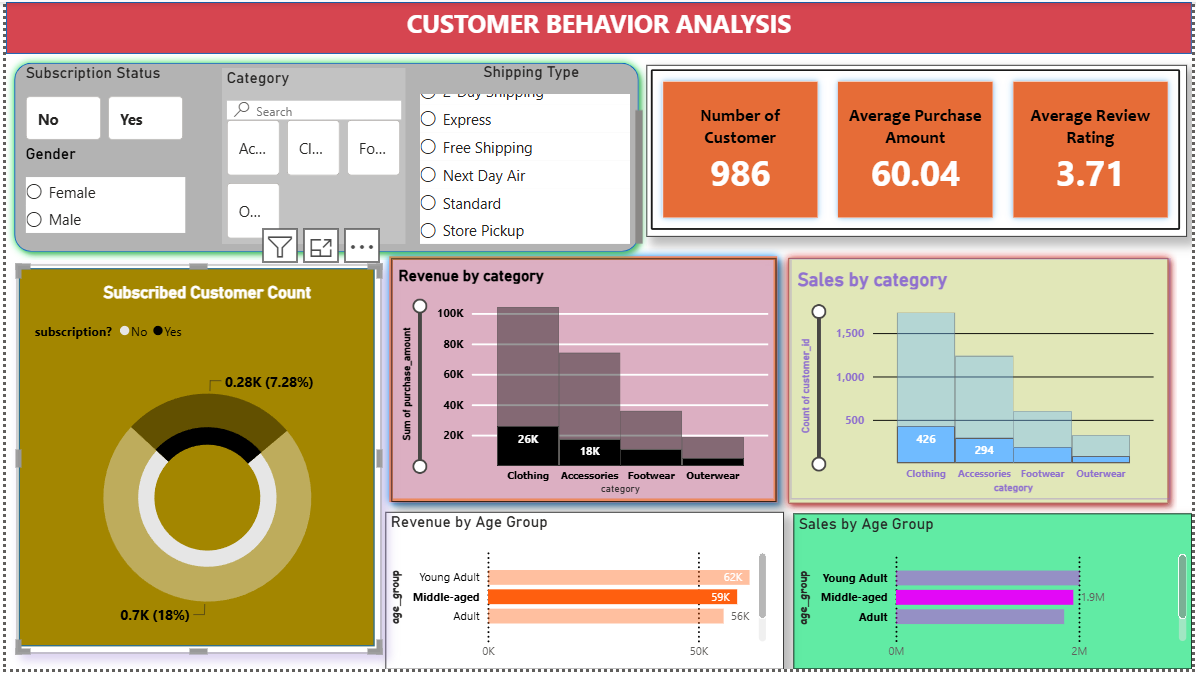

The page's visual inventory and layout, read from the dashboard file:
{"tool":"powerbi","page":{"name":"Page 1","canvas":[1280,720],"ordinal":0},"visuals":[{"type":"cardVisual","fields":{"Data":["public customer.Number of Customer","public customer.Average Purchase Amount","public customer.Average Review Rating"]},"box":[692,68,583.3,185],"z":0},{"type":"textbox","box":[0,0,1280,80],"z":1000},{"type":"shape","box":[0,0,1280,56],"z":2000},{"type":"textbox","box":[0,0,1280,56],"z":3000},{"type":"shape","box":[6,280,398,422],"z":4000},{"type":"donutChart","title":"Subscribed Customer Count","fields":{"Category":["public customer.subscription_status"],"Y":["CountNonNull(public customer.customer_id)"]},"box":[12,284,392,418],"z":5000},{"type":"shape","box":[404,266,436.7,283.3],"z":6000},{"type":"clusteredColumnChart","title":"Revenue by category","fields":{"Y":["Sum(public customer.purchase_amount)"],"Category":["public customer.category"]},"box":[416.2,277.5,415,262.5],"z":7000},{"type":"shape","box":[836.2,267.5,428.3,283.3],"z":8000},{"type":"clusteredColumnChart","title":"Sales by category","fields":{"Y":["CountNonNull(public customer.customer_id)"],"Category":["public customer.category"]},"box":[846.2,277.5,410,260],"z":9000},{"type":"shape","box":[0,56,692,222],"z":10000},{"type":"advancedSlicerVisual","title":"Subscription Status","fields":{"Values":["public customer.subscription_status"]},"box":[15,68.3,166.7,86.7],"z":11000},{"type":"listSlicer","title":"Shipping Type","fields":{"Values":["public customer.shipping_type"]},"box":[442,64,250,202],"z":12000},{"type":"advancedSlicerVisual","title":"Category","fields":{"Values":["public customer.category"]},"box":[226,70,198,190],"z":13000},{"type":"clusteredBarChart","title":"Revenue by Age Group","fields":{"Y":["Sum(public customer.purchase_amount)"],"Category":["public customer.age_group"]},"box":[410,550,430,170],"z":14000},{"type":"listSlicer","title":"Gender","fields":{"Values":["public customer.gender"]},"box":[16,154,182,108],"z":15000},{"type":"clusteredBarChart","title":"Sales by Age Group","fields":{"Y":["Sum(public customer.customer_id)"],"Category":["public customer.age_group"]},"box":[850,552,430,168],"z":16000}]}

Visuals, with their boxes in screenshot pixels (x1, y1, x2, y2), scaled from the page's 1280x720 canvas onto the 1196x674 screenshot:
cardVisual - public customer.Number of Customer x public customer.Average Purchase Amount: x1=647 y1=64 x2=1192 y2=237
textbox: x1=0 y1=0 x2=1195 y2=75
shape: x1=0 y1=0 x2=1195 y2=52
textbox: x1=0 y1=0 x2=1195 y2=52
shape: x1=6 y1=262 x2=377 y2=657
"Subscribed Customer Count" donutChart: x1=11 y1=266 x2=377 y2=657
shape: x1=377 y1=249 x2=786 y2=514
"Revenue by category" clusteredColumnChart: x1=389 y1=260 x2=777 y2=506
shape: x1=781 y1=250 x2=1182 y2=516
"Sales by category" clusteredColumnChart: x1=791 y1=260 x2=1174 y2=503
shape: x1=0 y1=52 x2=647 y2=260
"Subscription Status" advancedSlicerVisual: x1=14 y1=64 x2=170 y2=145
"Shipping Type" listSlicer: x1=413 y1=60 x2=647 y2=249
"Category" advancedSlicerVisual: x1=211 y1=66 x2=396 y2=243
"Revenue by Age Group" clusteredBarChart: x1=383 y1=515 x2=785 y2=673
"Gender" listSlicer: x1=15 y1=144 x2=185 y2=245
"Sales by Age Group" clusteredBarChart: x1=794 y1=517 x2=1195 y2=673
